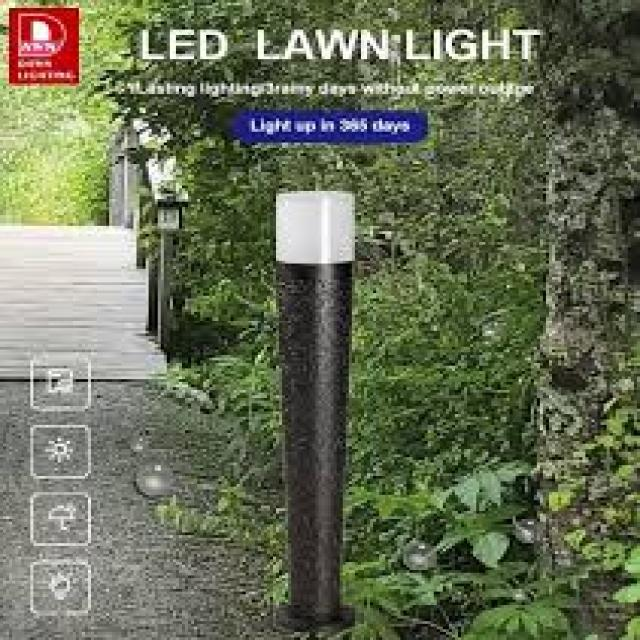bollard: (266, 183, 362, 640)
